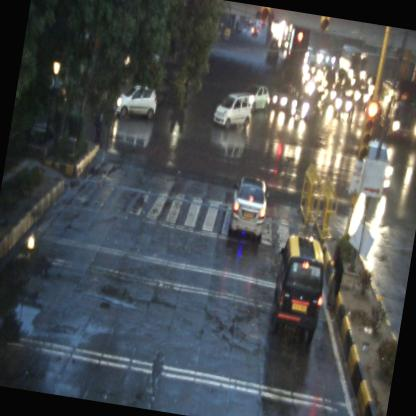bus: (374, 75, 415, 149), (336, 41, 370, 89)
car: (266, 232, 330, 342), (224, 174, 270, 247), (212, 89, 255, 132), (112, 81, 158, 120), (242, 80, 272, 113)
